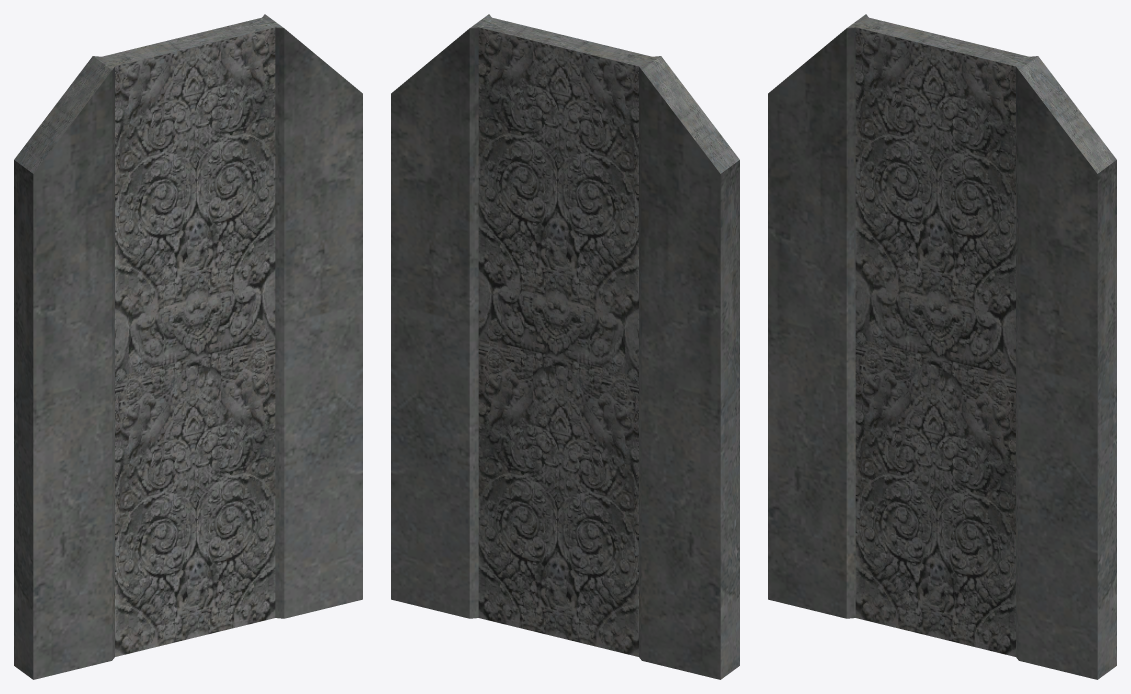
File: door_djt_hall_short_l0.fbx
3 views of the same model, side by side, from view 1: azimuth 30°, elevation 25°; view 2: azimuth 150°, elevation 25°; view 3: azimuth 330°, elevation 25° (orthographic).
Visible parts, largest first — view 1: mesh_node; view 2: mesh_node; view 3: mesh_node.
Boxes of the visible parts, left/top/right/bottom form: mesh_node: left=14, top=14, right=362, bottom=679; mesh_node: left=391, top=14, right=739, bottom=679; mesh_node: left=768, top=14, right=1116, bottom=679.
Size of the model in its own units: 2.06 by 3.53 by 0.2101.
